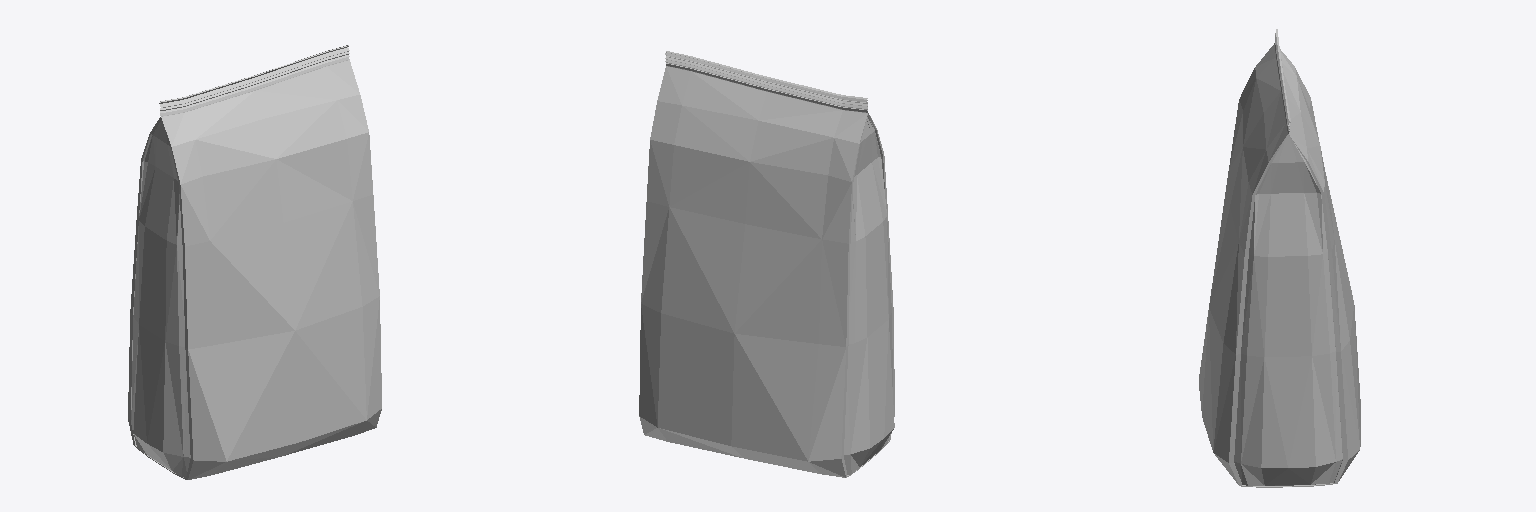
The model's file is Mockup Cat Food_polymsh188.obj.
3 views of the same model, side by side, from view 1: azimuth 30°, elevation 25°; view 2: azimuth 150°, elevation 25°; view 3: azimuth 270°, elevation 25° (orthographic).
Visible parts, largest first — view 1: polymsh188; view 2: polymsh188; view 3: polymsh188.
Part boxes in pixels (left/top/right/bottom): polymsh188: left=128, top=45, right=381, bottom=479; polymsh188: left=639, top=51, right=894, bottom=477; polymsh188: left=1199, top=29, right=1360, bottom=487.
Size of the model in its own units: 38.75 by 60.66 by 24.28.